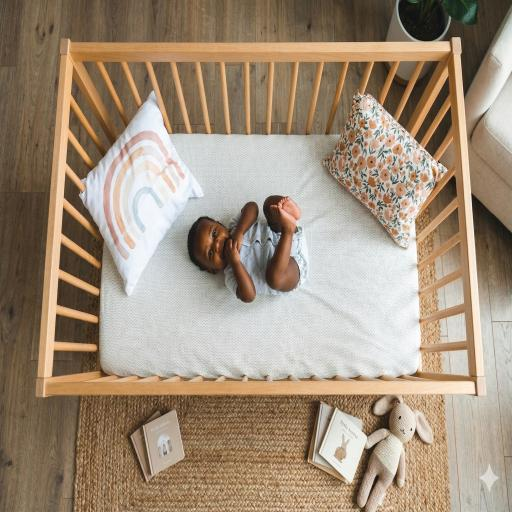baby: (188, 196, 308, 302)
crib: (52, 61, 469, 381)
